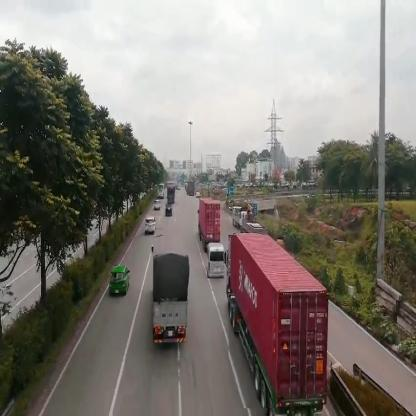car: (208, 245, 225, 280), (110, 266, 130, 295), (146, 218, 156, 235), (166, 205, 172, 219), (155, 202, 161, 211)
container: (230, 236, 328, 410), (201, 201, 222, 243)
truck: (155, 236, 189, 344), (169, 183, 175, 206)
